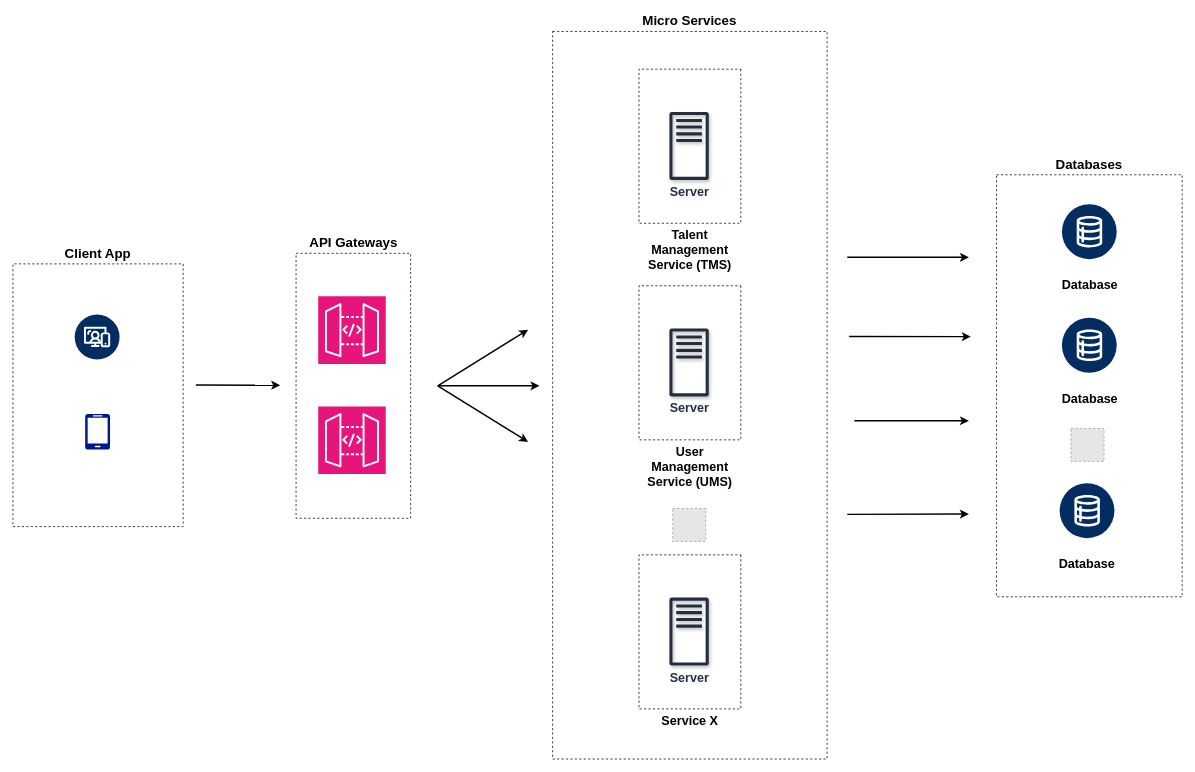
Some shapes in this 1195 by 772 pixel diagram are drawn without their labels. Grey dashed boxes stand in for pictures. Here are the shapes that lost their labels. From the top down, the centre of each, then its label:
At point 97,336: "Web App".
At point 97,431: "Mobile App".
